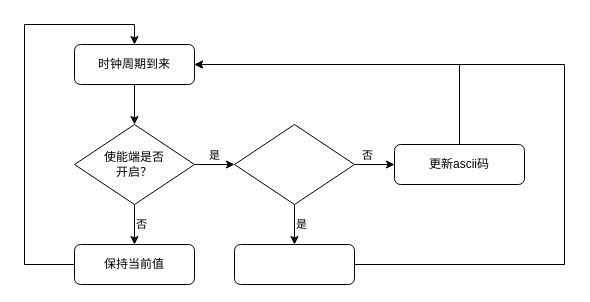
This 590x302 diagram has some shape labels left out. The centre of each missing label's shape, as x and y in pixels:
"ascii码减去20，更新为大写字码的ascii码" belongs at point (294, 264).
"输入是否为 字母?" belongs at point (294, 164).
